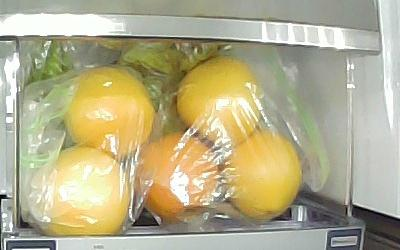grapefruit_vinyl: (66, 67, 154, 156), (175, 55, 260, 145), (40, 150, 130, 235), (224, 131, 300, 219), (136, 133, 217, 213)
